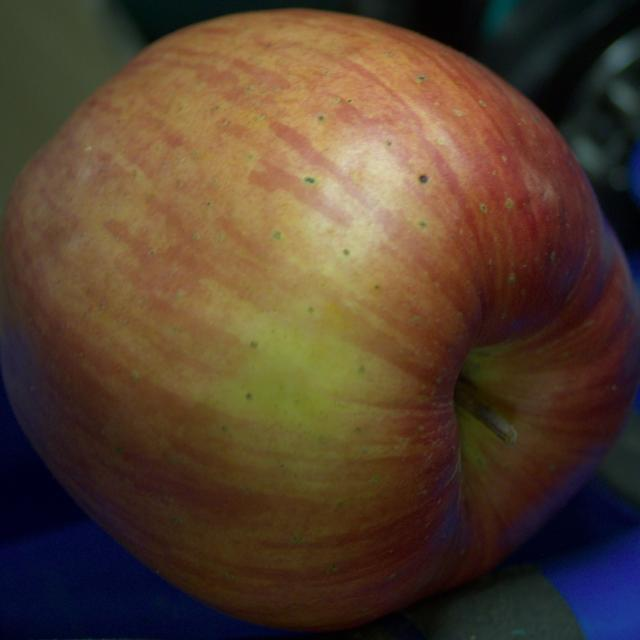apple: (0, 9, 639, 630)
pest: (420, 175, 428, 182)
